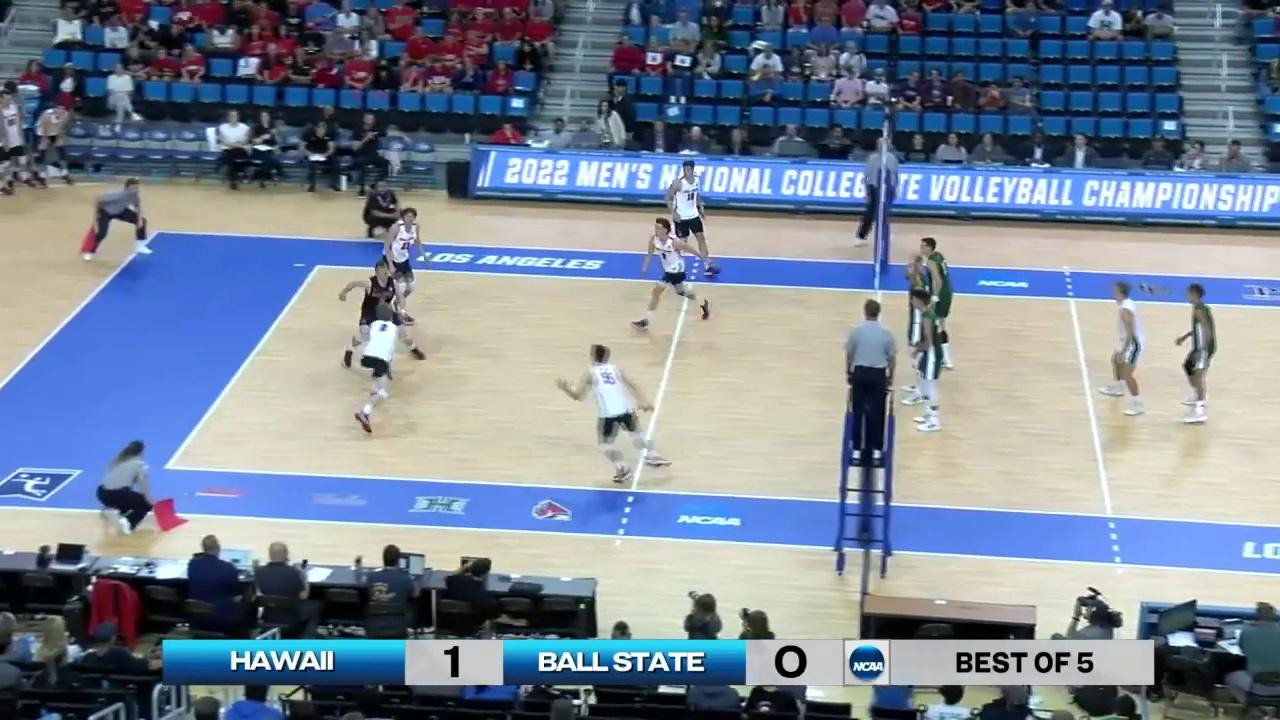player: (570, 346, 675, 483), (632, 219, 716, 329), (340, 261, 425, 364), (355, 303, 408, 437), (1175, 285, 1219, 421), (1104, 279, 1148, 415), (666, 163, 719, 275), (915, 234, 957, 367), (902, 259, 936, 406), (912, 290, 946, 433), (385, 208, 423, 321)
refree: (842, 302, 900, 465), (94, 439, 182, 539), (83, 178, 153, 261), (860, 139, 897, 246)
